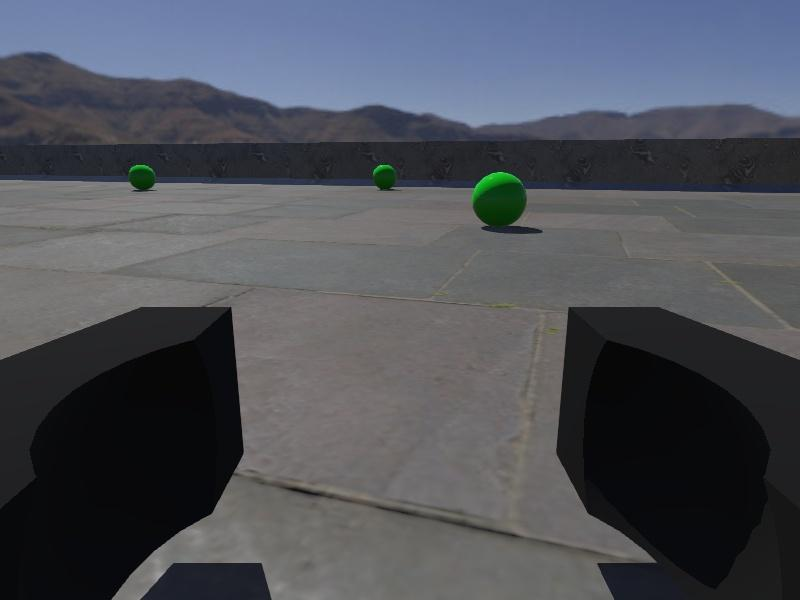green ball: (471, 172, 528, 228), (128, 163, 156, 191), (372, 163, 398, 192)
